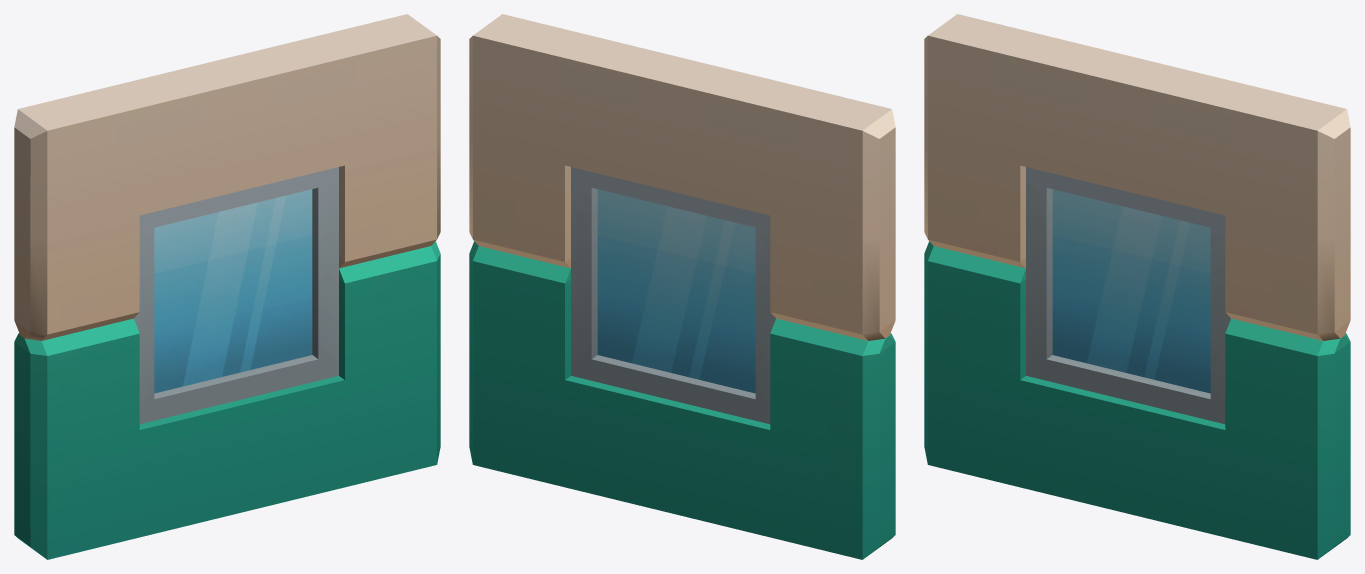
Rendered from wall-window-closed.glb.
3 views of the same model, side by side, from view 1: azimuth 30°, elevation 25°; view 2: azimuth 150°, elevation 25°; view 3: azimuth 330°, elevation 25° (orthographic).
Parts seen in each view (by area): view 1: wall_window_closed; view 2: wall_window_closed; view 3: wall_window_closed.
Boxes of the visible parts, left/top/right/bottom form: wall_window_closed: left=14, top=14, right=440, bottom=559; wall_window_closed: left=469, top=14, right=895, bottom=559; wall_window_closed: left=924, top=14, right=1350, bottom=559.
Size of the model in its own units: 4 by 4 by 0.5.
Materials: 1 (1 with a texture image).
